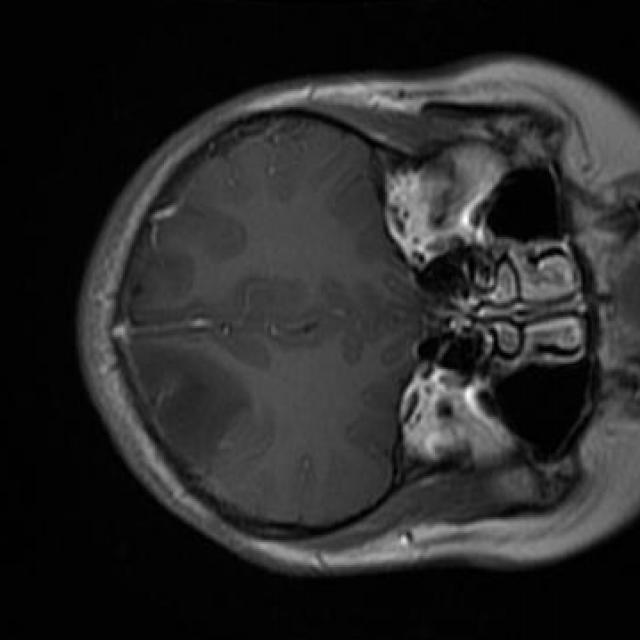glioma: (118, 342, 248, 467)
